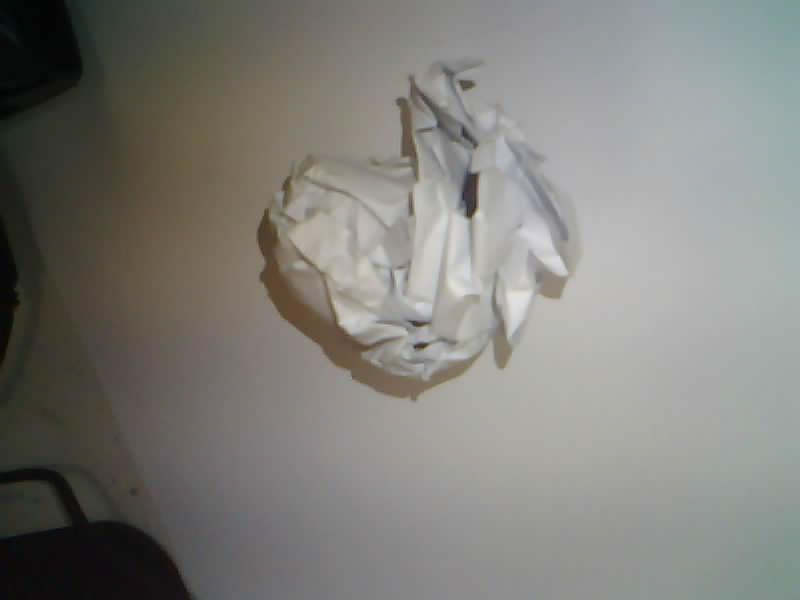biodegradable: (268, 63, 572, 378)
